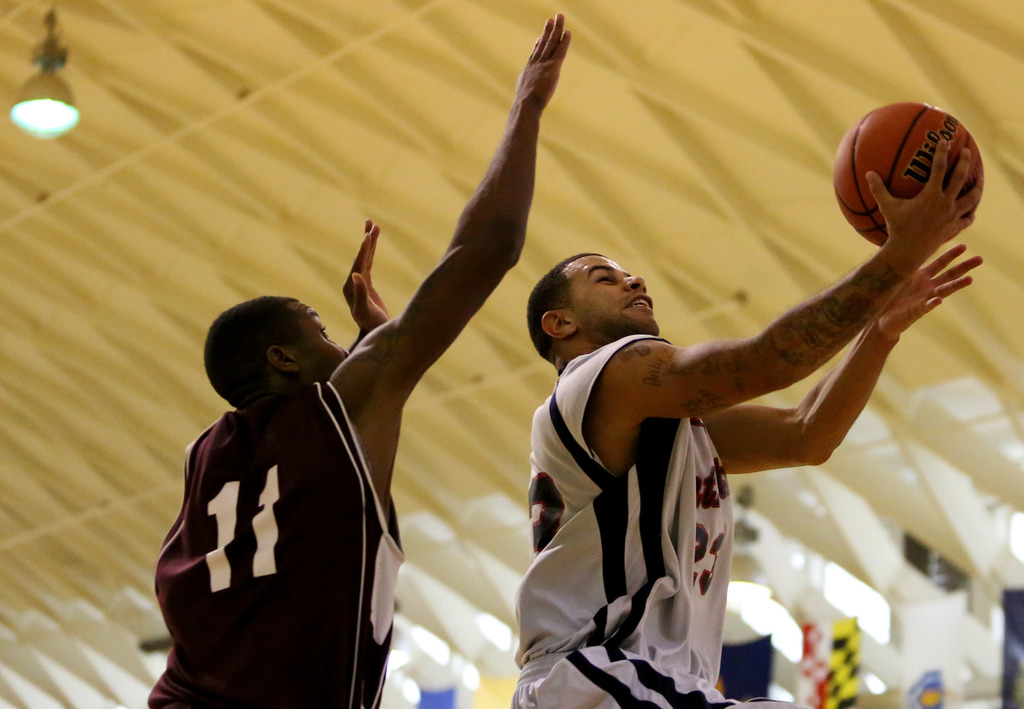Ball: (830, 106, 980, 254)
